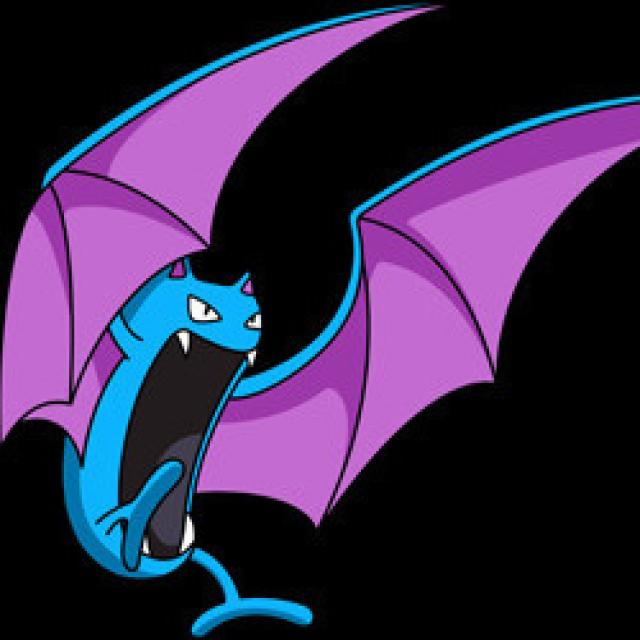Golbat: (5, 6, 640, 640)
